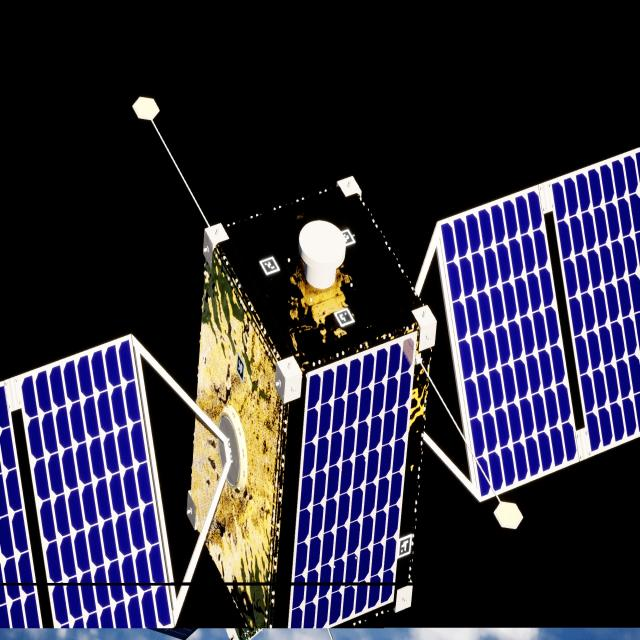medium_debris: (0, 148, 640, 640)
